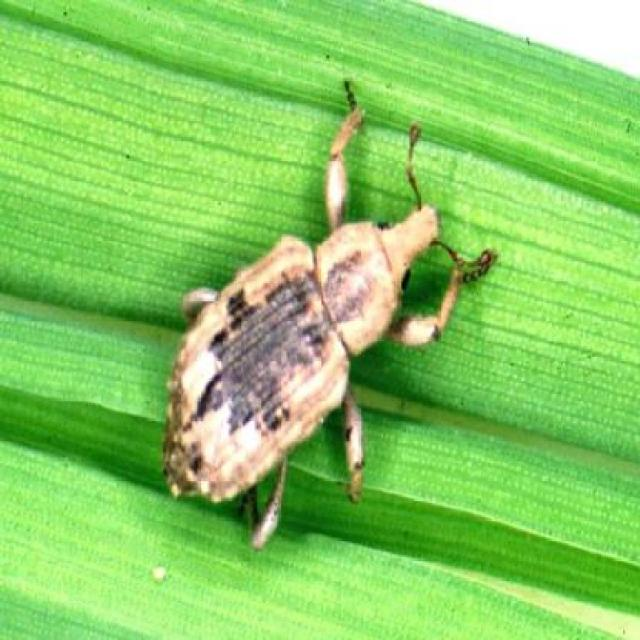rice-bug: (162, 142, 464, 548)
